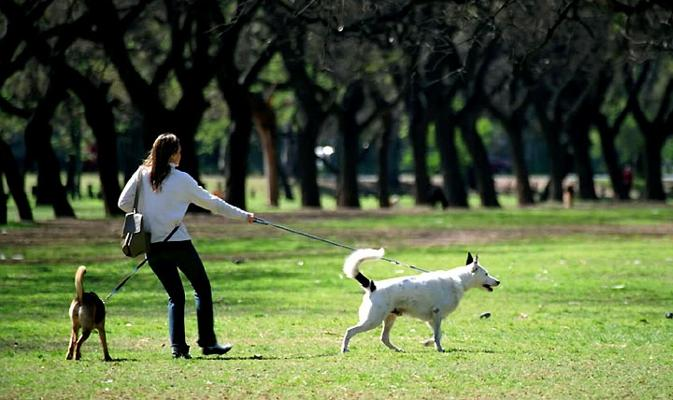person: (119, 135, 257, 359)
